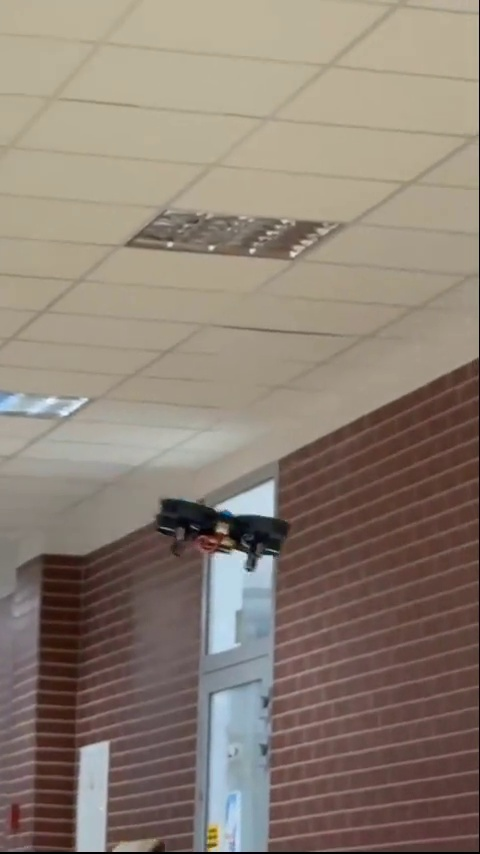drone: (158, 497, 291, 569)
